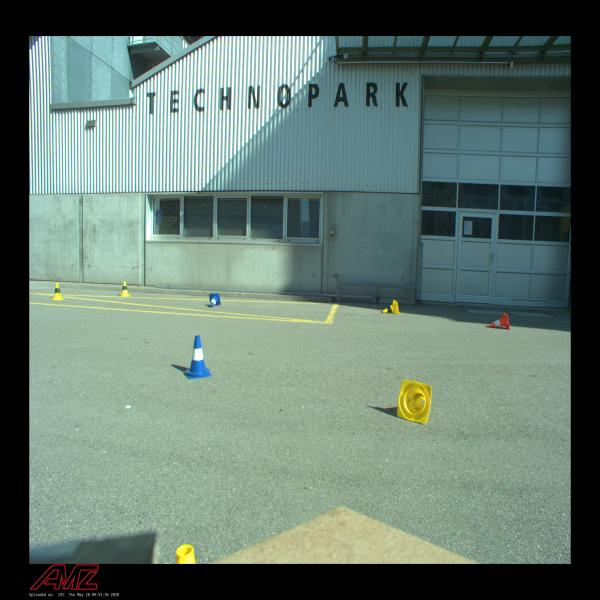blue_cone: (184, 335, 212, 379), (209, 293, 221, 308)
orange_cone: (490, 312, 510, 330)
yellow_cone: (396, 380, 432, 424), (382, 299, 400, 314), (50, 283, 65, 300), (120, 281, 130, 296)
